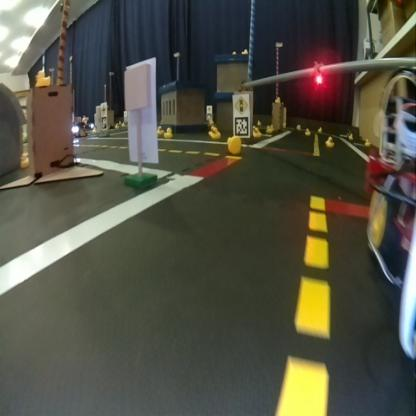Duckie: (35, 71, 49, 86), (228, 136, 240, 147), (325, 137, 331, 146), (210, 127, 216, 136), (252, 126, 258, 134), (164, 129, 171, 135), (157, 125, 162, 133), (274, 96, 280, 102), (364, 138, 369, 145), (266, 125, 272, 130), (305, 127, 309, 134), (348, 132, 352, 138), (317, 127, 321, 132), (296, 124, 300, 129)
Duckiebot: (367, 103, 410, 342)
Intersection sign: (101, 102, 106, 114)
QR code: (233, 116, 249, 135)
Signal sign: (232, 94, 248, 115)
Traffic light: (313, 61, 323, 84)
